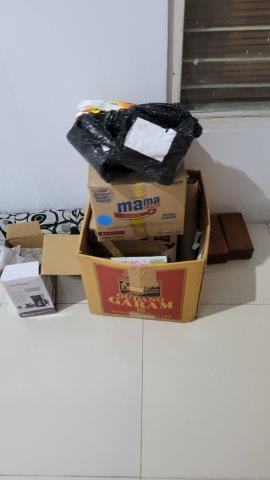kardus: (80, 174, 209, 323), (1, 226, 67, 315)
kertas: (124, 115, 175, 167)
